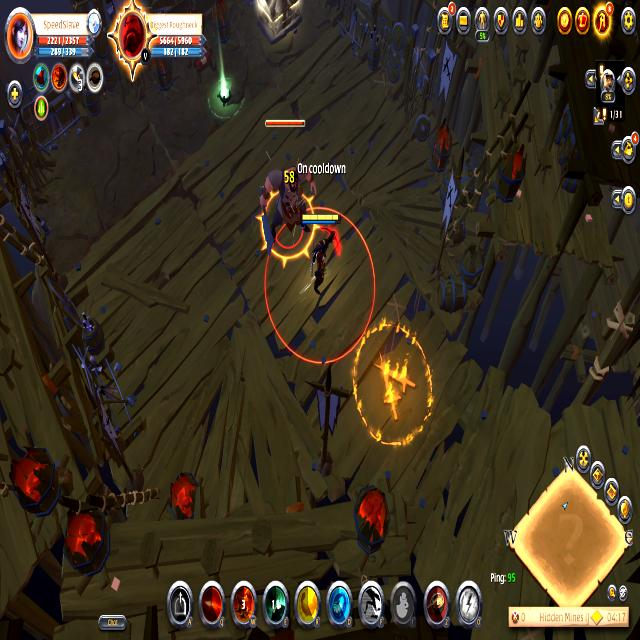ore: (260, 114, 320, 266)
red: (299, 208, 342, 306)
silver: (265, 206, 376, 369)
